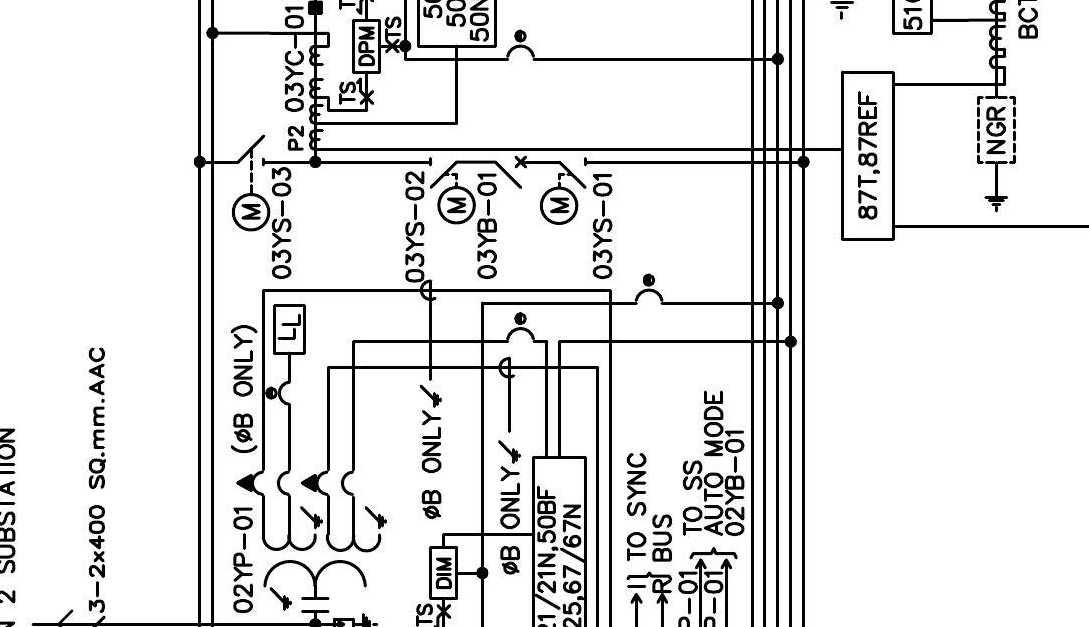115_1way_ds_w_motor: (230, 134, 271, 233), (428, 157, 477, 226), (539, 157, 587, 226)
115_breaker: (494, 155, 527, 190)
115_cvt_1p: (235, 468, 388, 614)
DIM: (429, 546, 458, 600)
DPM: (351, 18, 381, 75)
LL: (273, 304, 306, 355)
NGR_future: (977, 96, 1016, 213)
